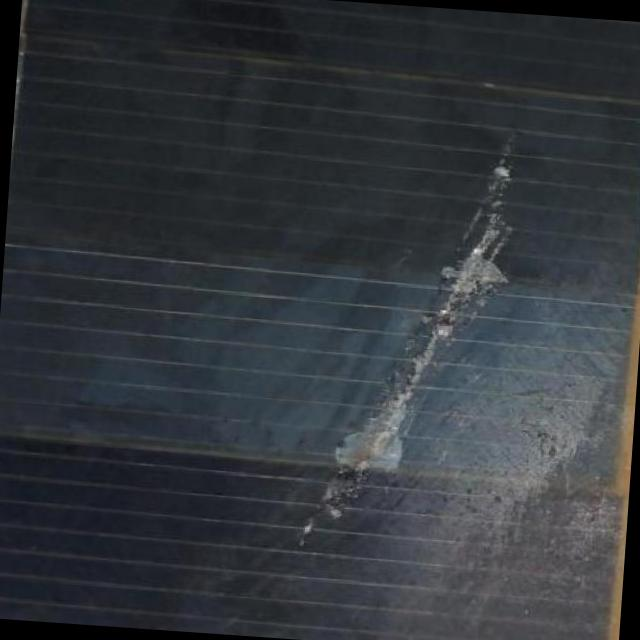faulty: (246, 134, 560, 584)
